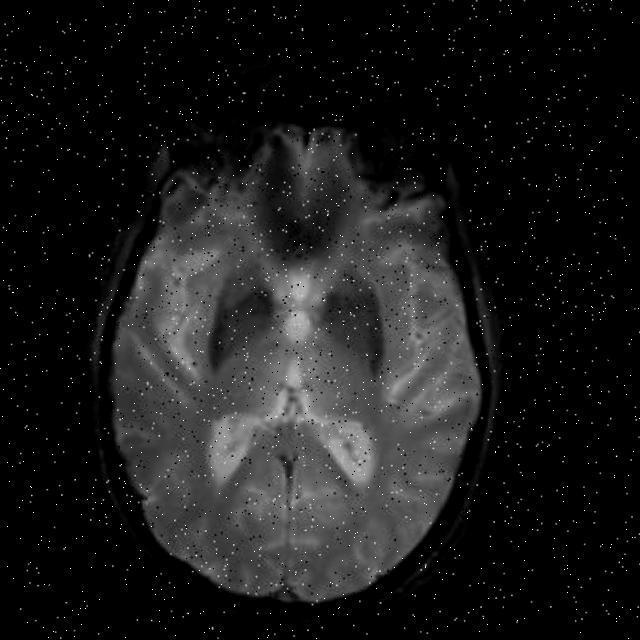LMCI: (246, 152, 342, 264), (314, 252, 392, 372), (182, 274, 272, 358)
